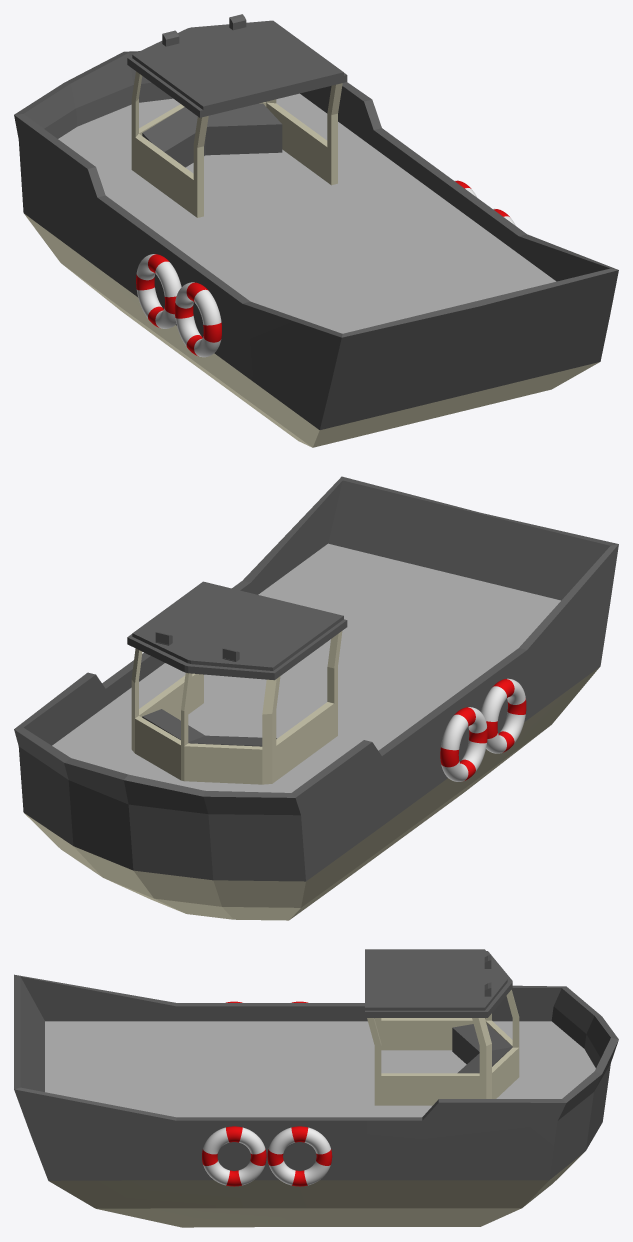
Rendered from Boat.fbx.
3 views of the same model, one above another, from view 1: azimuth 30°, elevation 25°; view 2: azimuth 150°, elevation 25°; view 3: azimuth 270°, elevation 25° (orthographic). The views are drawn at different scales.
Parts seen in each view (by area): view 1: Boat, LifePreserver; view 2: Boat, LifePreserver; view 3: Boat, LifePreserver.
Boxes of the visible parts, <box> form: Boat: <box>14,14,618,447</box>; LifePreserver: <box>136,180,515,357</box>; Boat: <box>14,476,618,920</box>; LifePreserver: <box>440,678,526,781</box>; Boat: <box>14,949,618,1227</box>; LifePreserver: <box>202,1001,332,1186</box>.
Bounding box in the file's own units: 948 × 749 × 1844.
